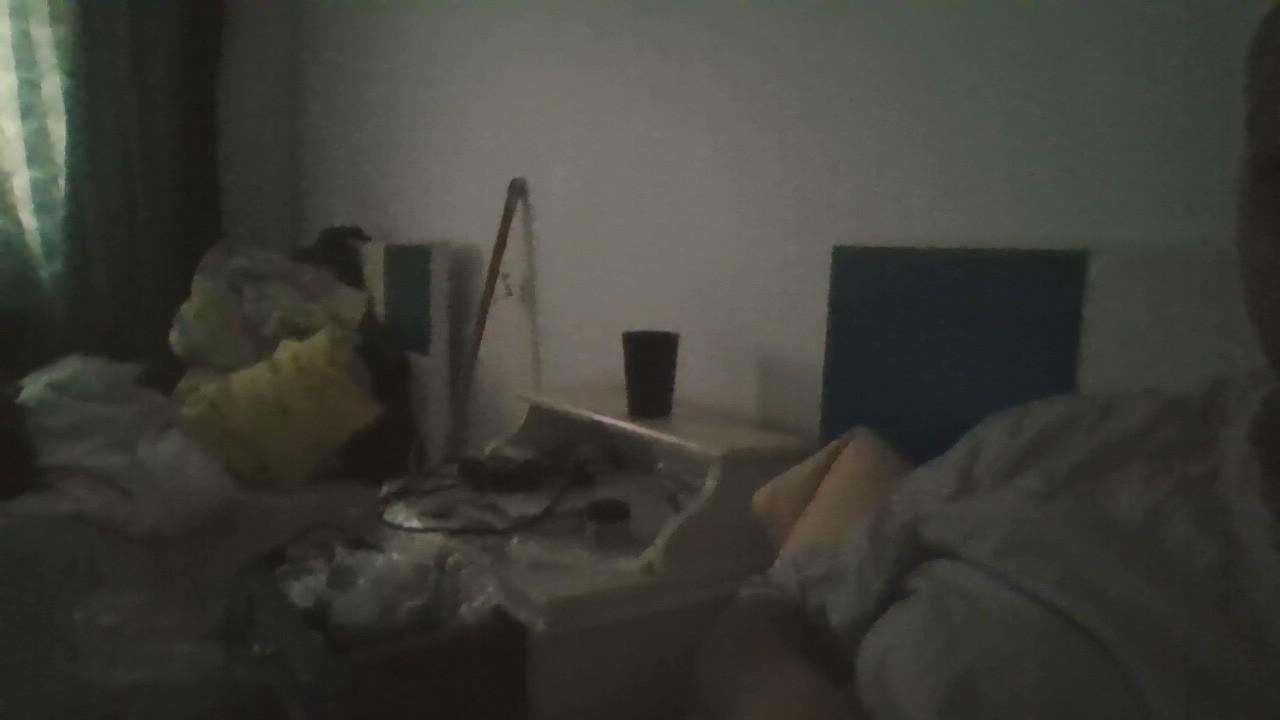cup: (621, 330, 679, 419)
